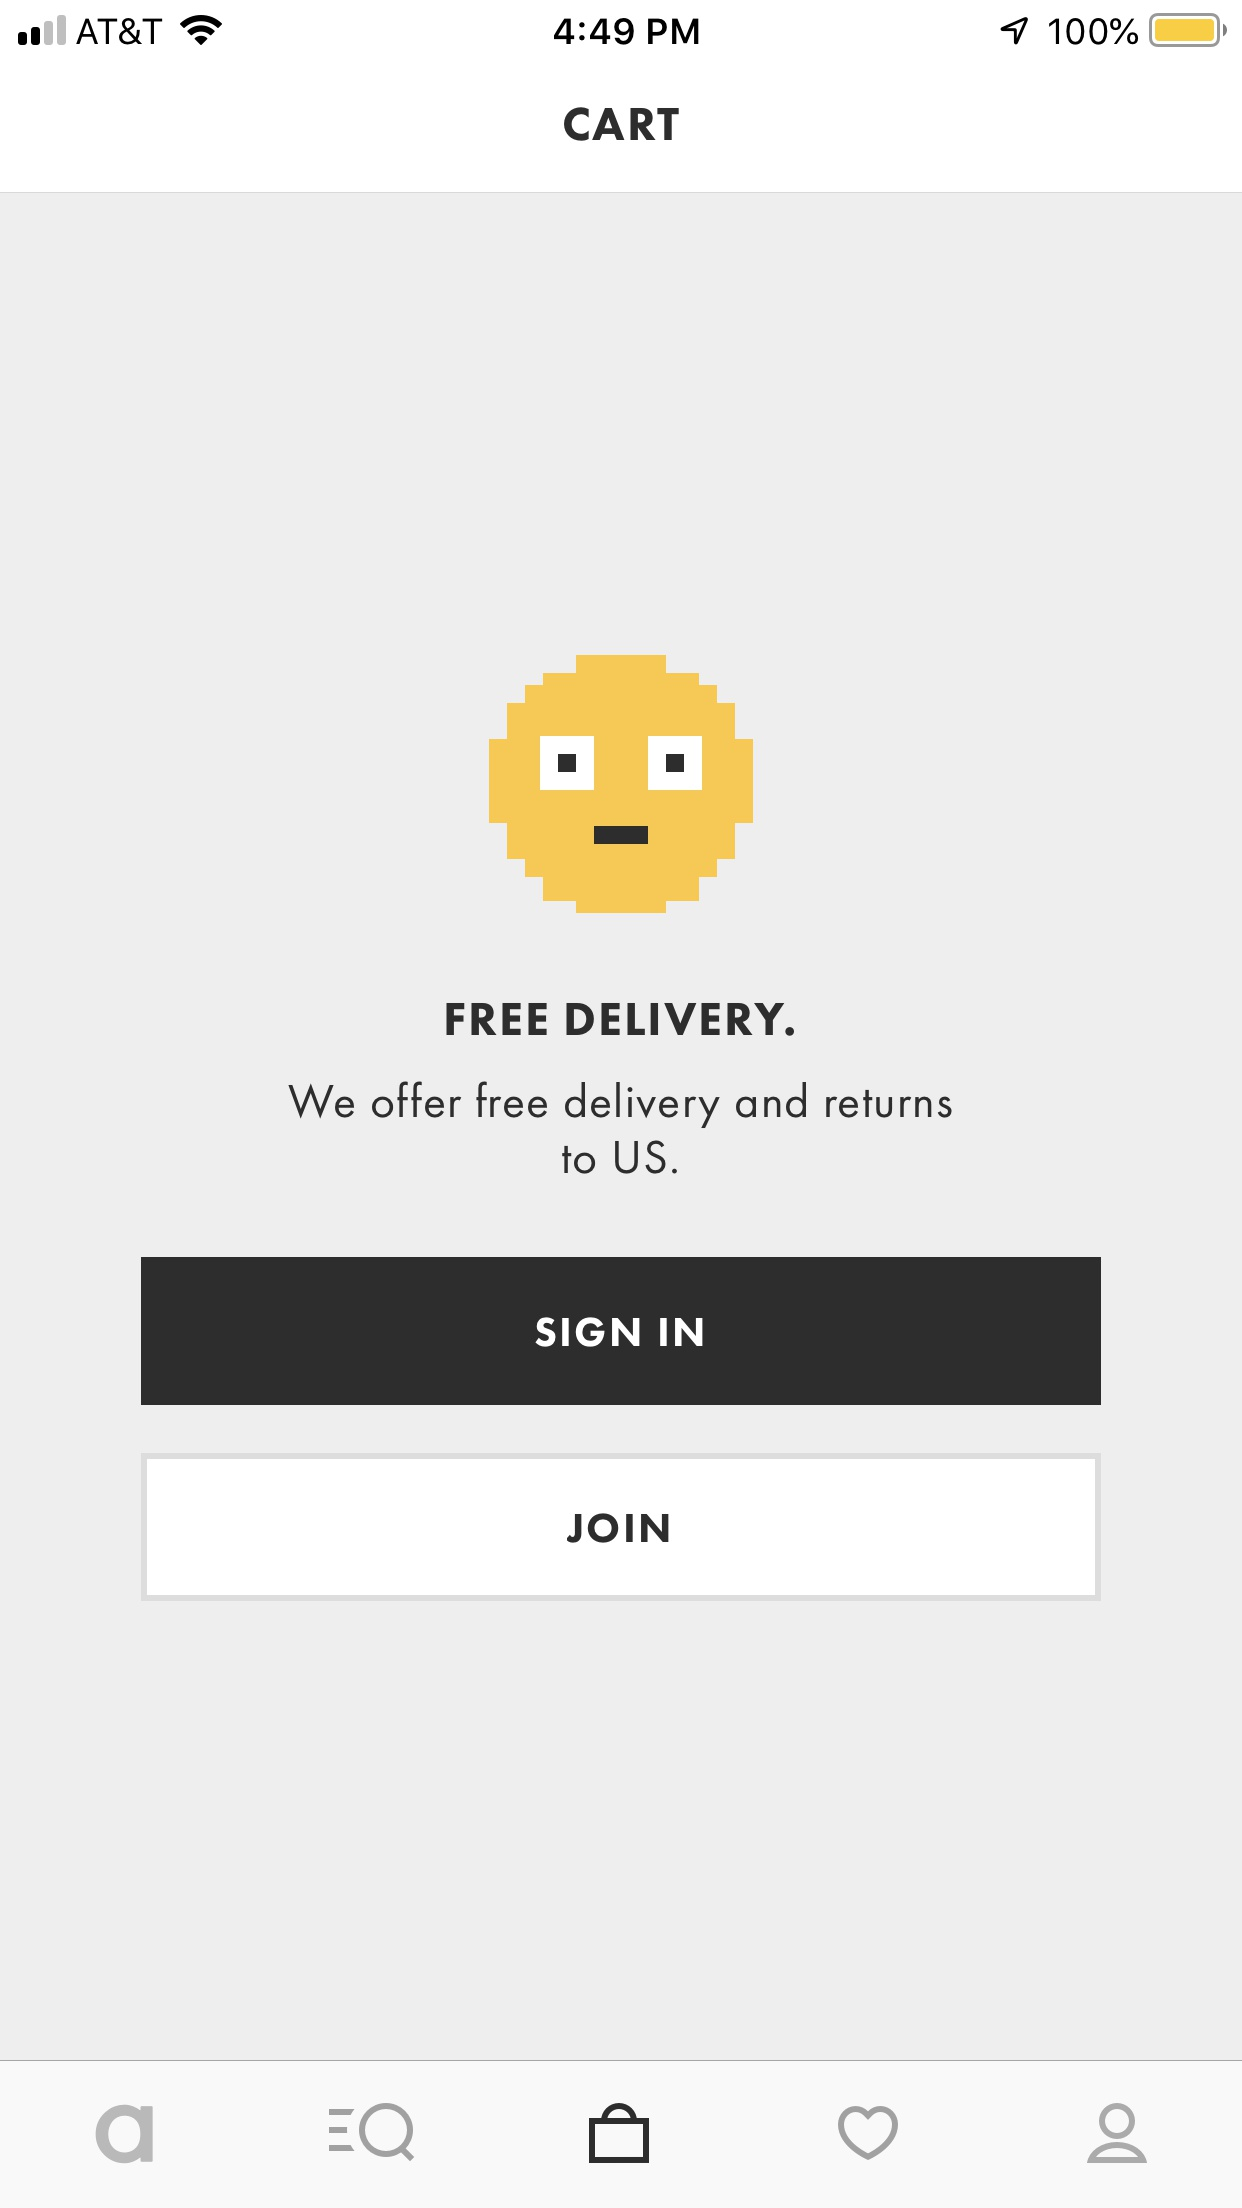Icon: (329, 2102, 416, 2163), (588, 2102, 651, 2164), (1087, 2102, 1148, 2164), (837, 2103, 899, 2159)
Image: (488, 654, 757, 914)
Text: (290, 1081, 952, 1175), (446, 1002, 795, 1037), (563, 108, 679, 143), (96, 2103, 155, 2164)
TextButton: (141, 1257, 1101, 1406), (143, 1453, 1102, 1601)
UpperTaskBar: (2, 2, 1242, 49)
